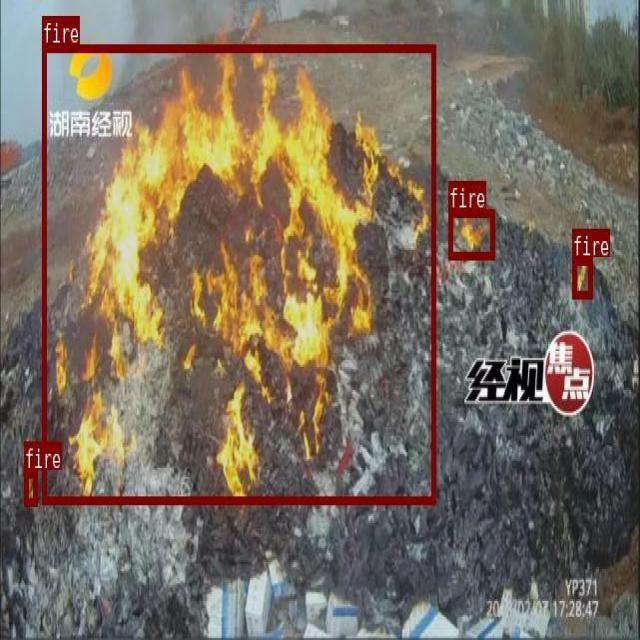fire: (42, 44, 435, 503), (448, 209, 494, 259), (572, 257, 592, 297), (23, 468, 37, 504)
